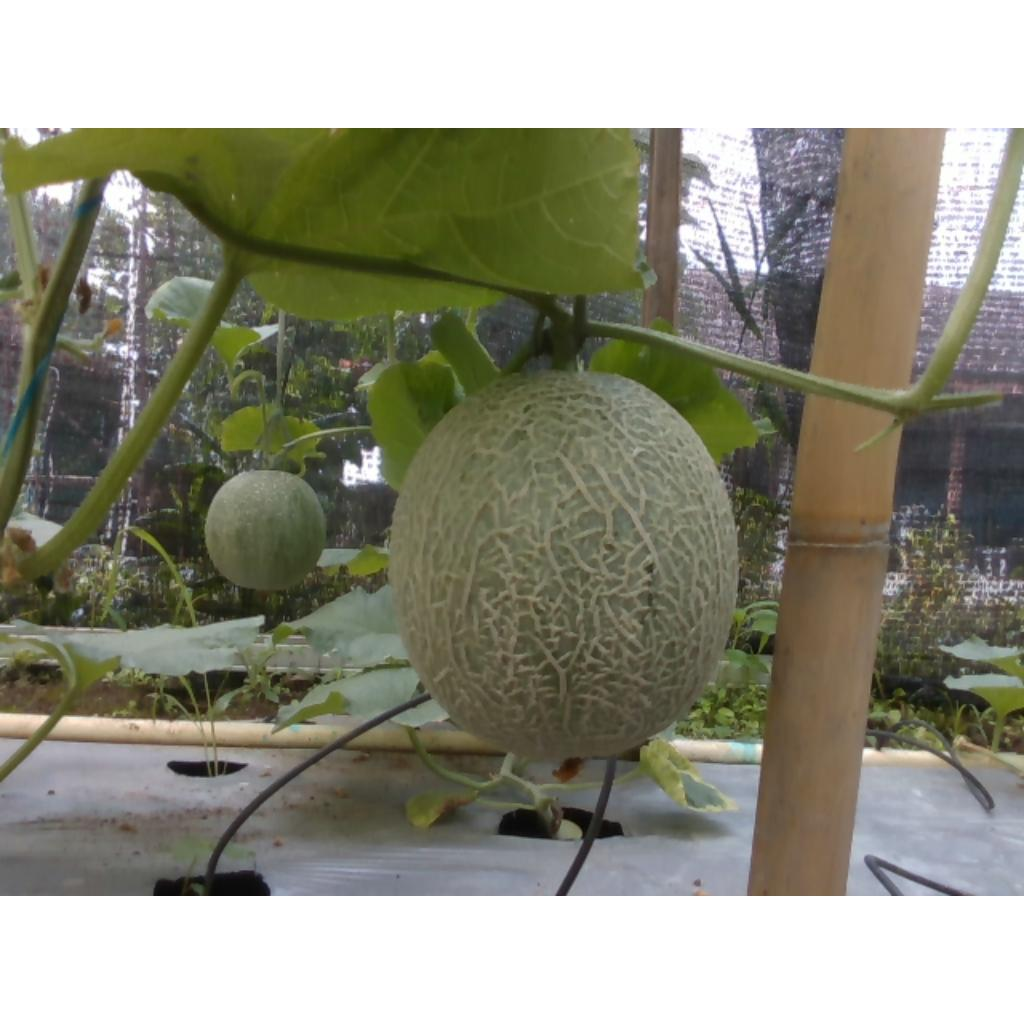melon: (390, 371, 739, 758)
